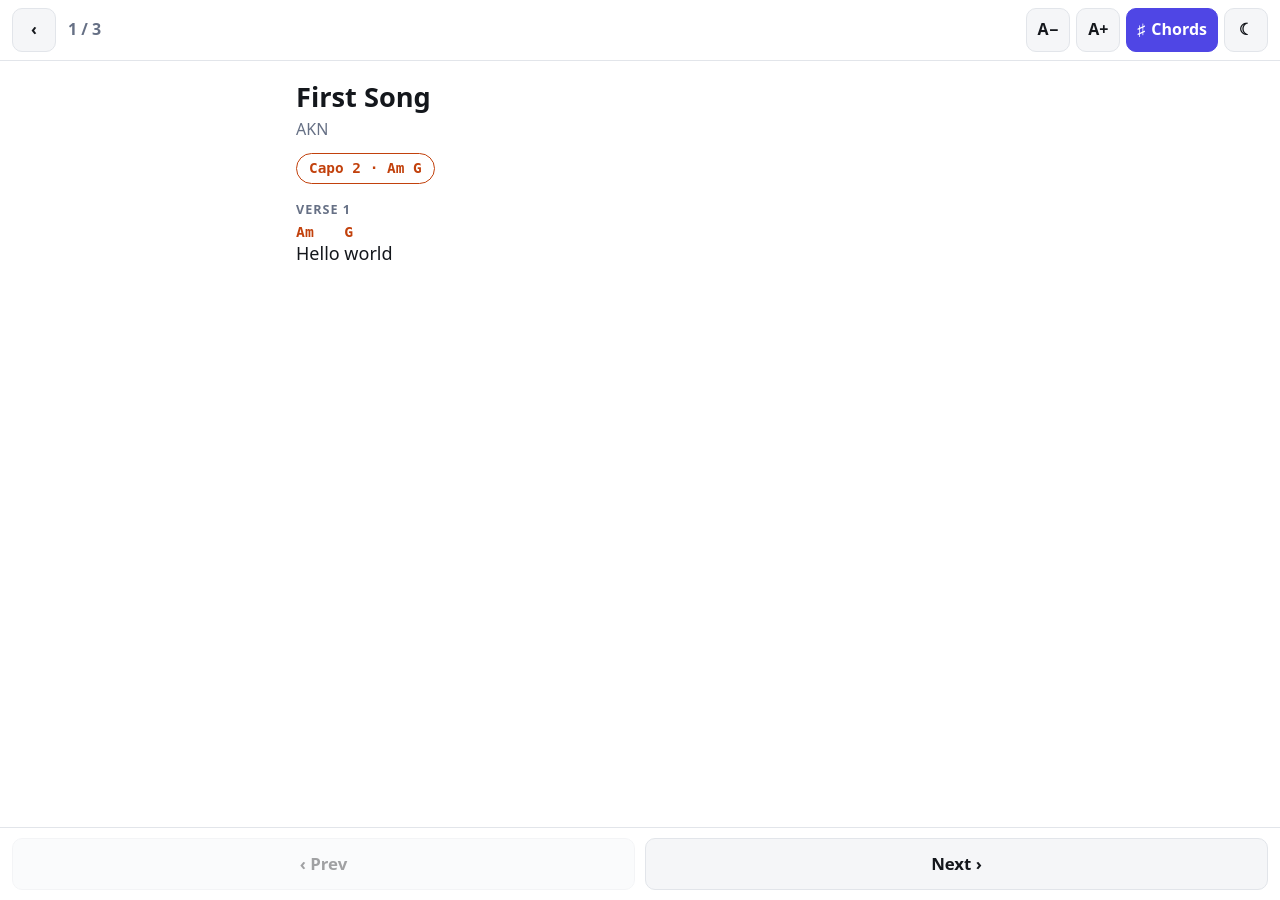
Test: reader: Prev / Next buttons › Prev is disabled on the first song and Next on the last
Expected: the button "‹ Prev" is disabled, [12,838,635,890]
Step 1. Click the button "Next ›" → click(956, 864), box [645,838,1268,890]
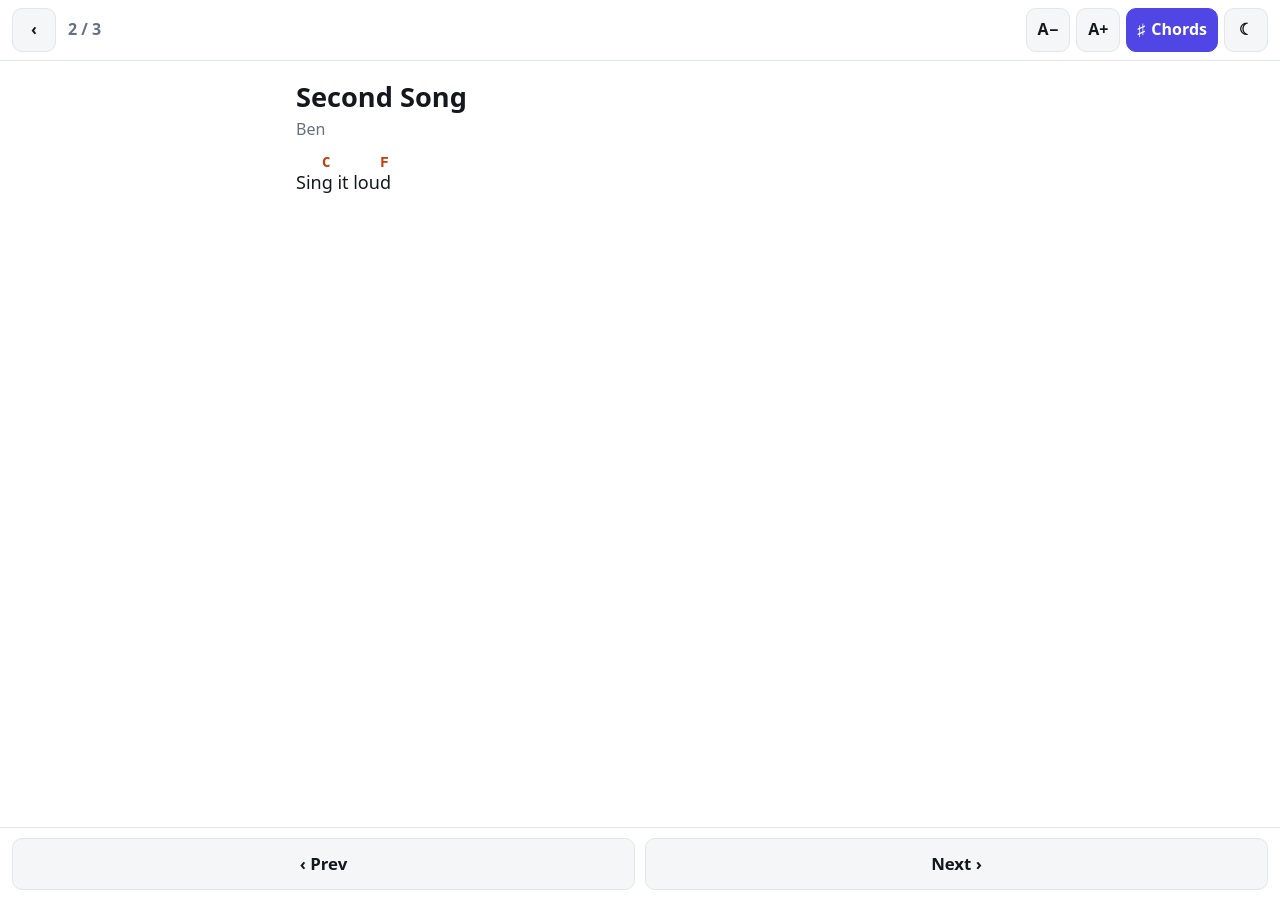
Step 2. Click the button "Next ›" → click(956, 864), box [645,838,1268,890]
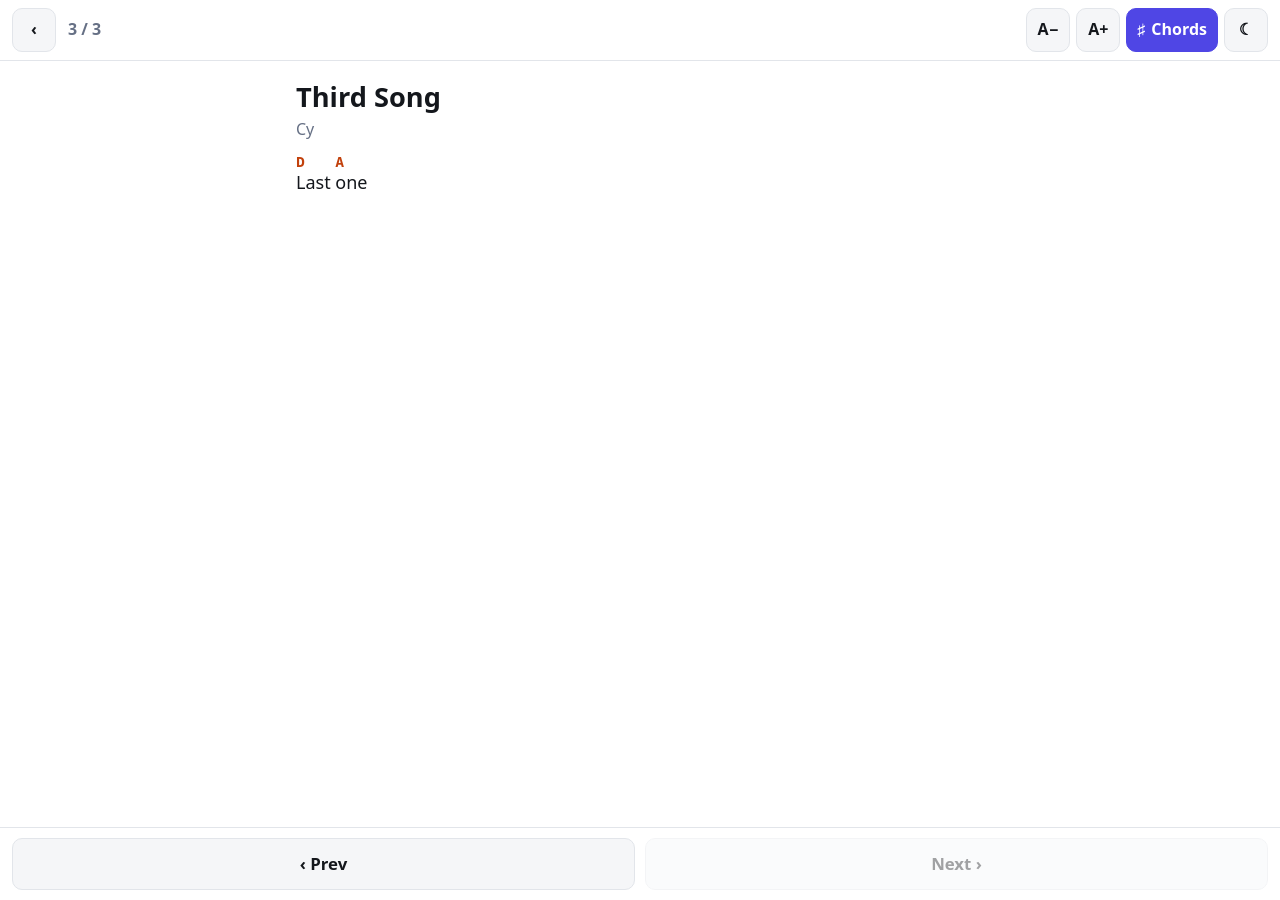
Result: the heading reads "Third Song" at [296,78,441,115]
Result: the button "Next ›" is disabled at [645,838,1268,890]
